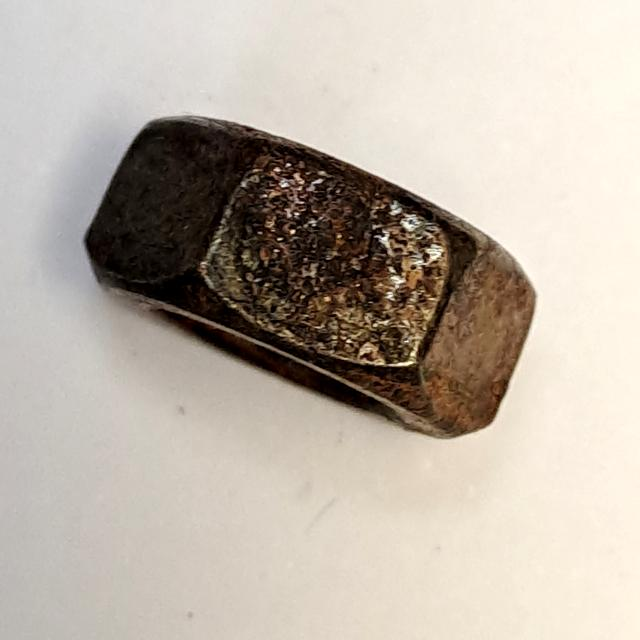Side_Rust: (60, 85, 563, 466)
